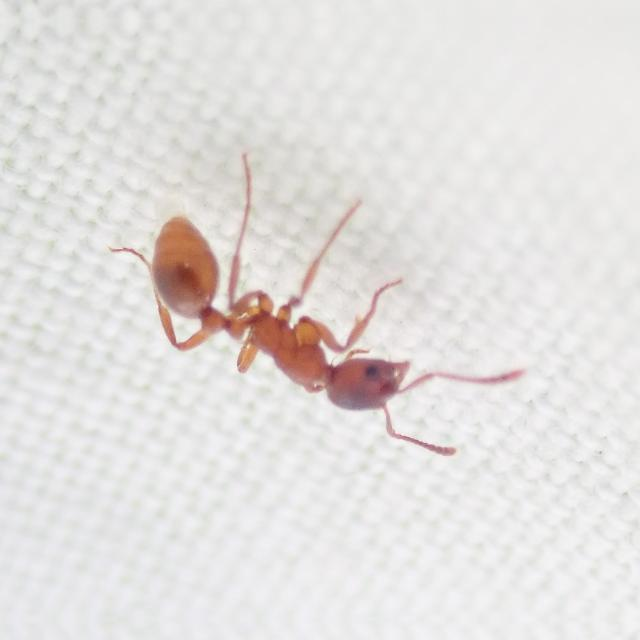Myrmica: (103, 173, 480, 459)
